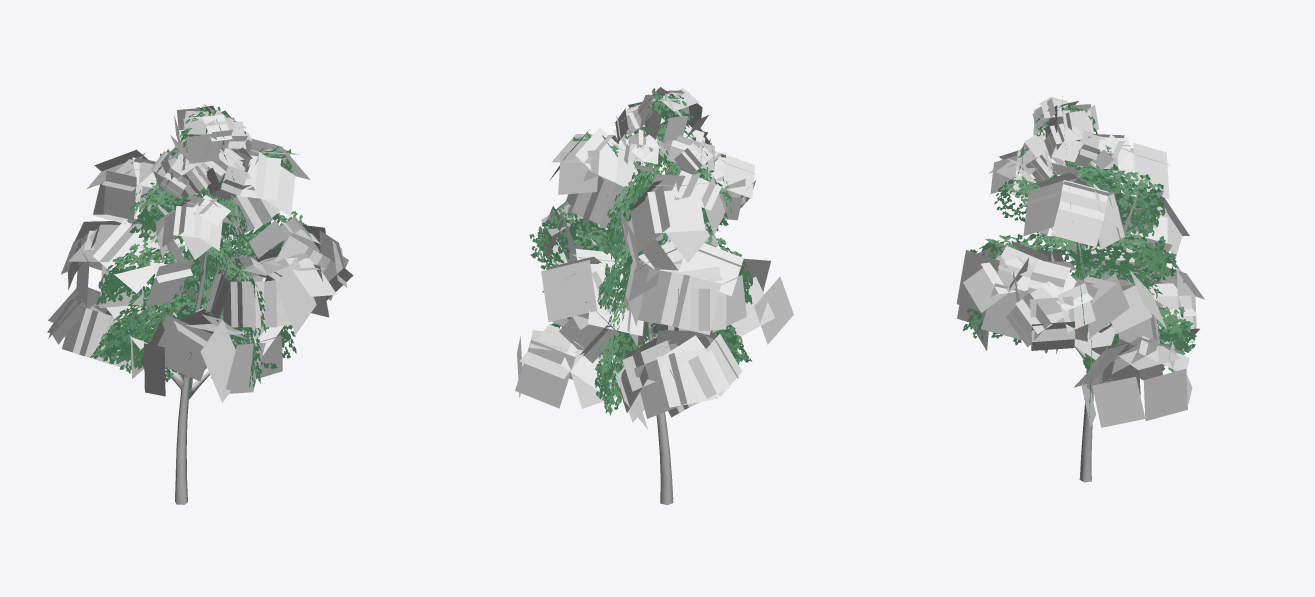
Rendered from Tree2_MidBlend.fbx.
The picture shows the model from 3 angles, left to right: view 1: azimuth 30°, elevation 25°; view 2: azimuth 150°, elevation 25°; view 3: azimuth 270°, elevation 25°; orthographic projection. The views are drawn at different scales.
Visible parts, largest first — view 1: BirchTreeLow; view 2: BirchTreeLow; view 3: BirchTreeLow.
Part boxes in pixels (x1,y1,x2,y2): BirchTreeLow: (47, 104, 353, 504); BirchTreeLow: (515, 87, 793, 505); BirchTreeLow: (956, 96, 1204, 482).
Bounding box in the file's own units: 808 × 810 × 808.
